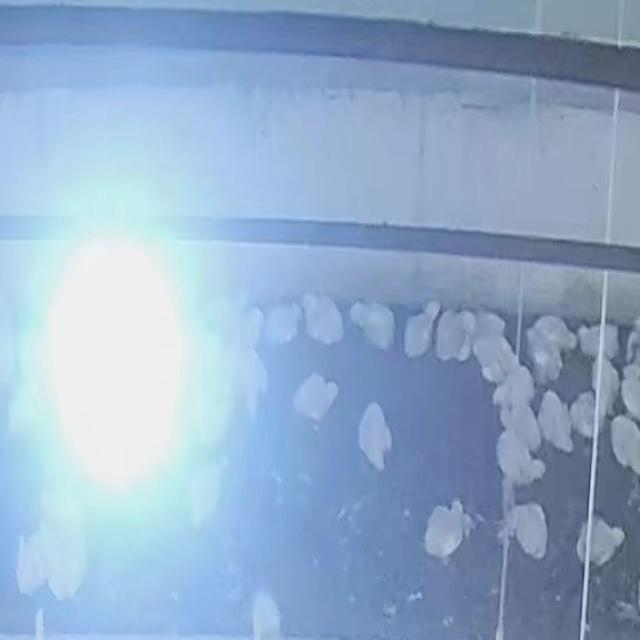chicken: (42, 520, 85, 601), (423, 499, 474, 561), (574, 514, 625, 568), (503, 502, 549, 560), (357, 401, 395, 471), (497, 432, 546, 484), (302, 292, 346, 348), (538, 391, 576, 452), (433, 308, 473, 362), (404, 294, 437, 358), (16, 532, 49, 596), (588, 355, 622, 417), (295, 372, 340, 417), (526, 314, 578, 352), (493, 365, 540, 407), (354, 301, 394, 350), (609, 416, 640, 478), (261, 301, 301, 346), (251, 590, 287, 640), (576, 322, 619, 362), (470, 310, 505, 352), (568, 393, 598, 440), (529, 346, 566, 382), (618, 366, 640, 426)
